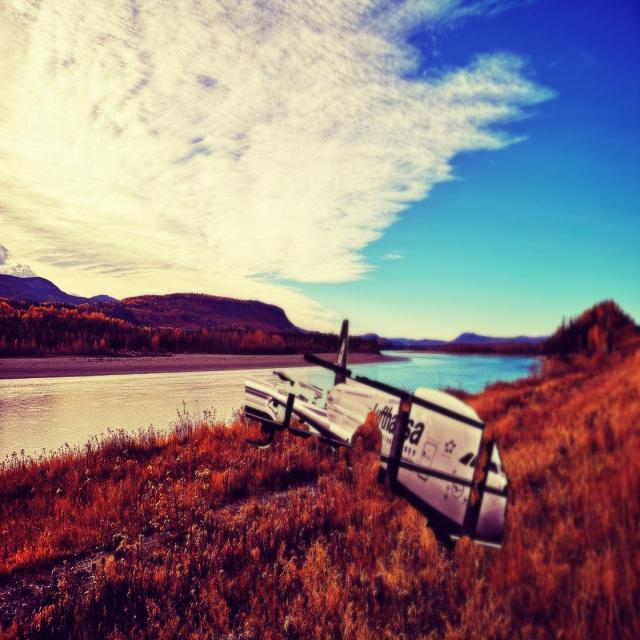airplane: (243, 318, 510, 552)
